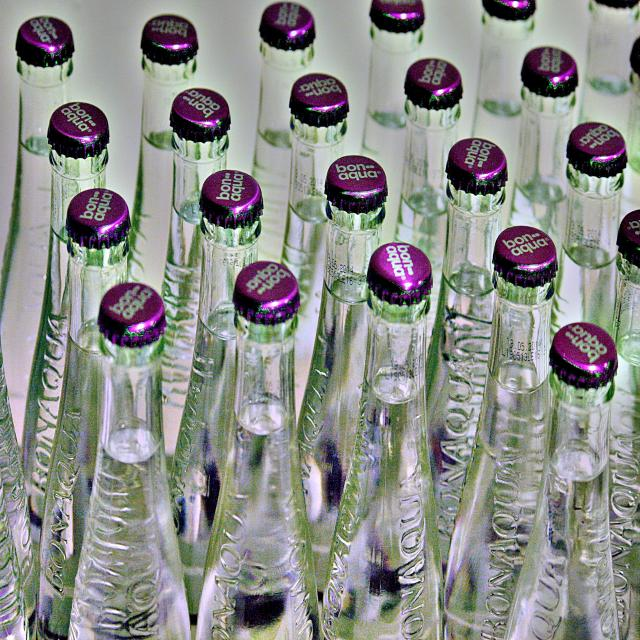plastic_bottle: (320, 241, 444, 638)
